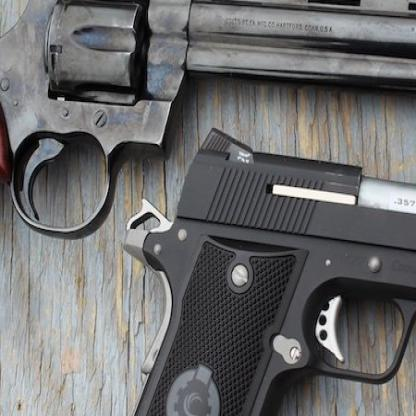gun: (0, 0, 415, 351), (82, 128, 415, 415)
